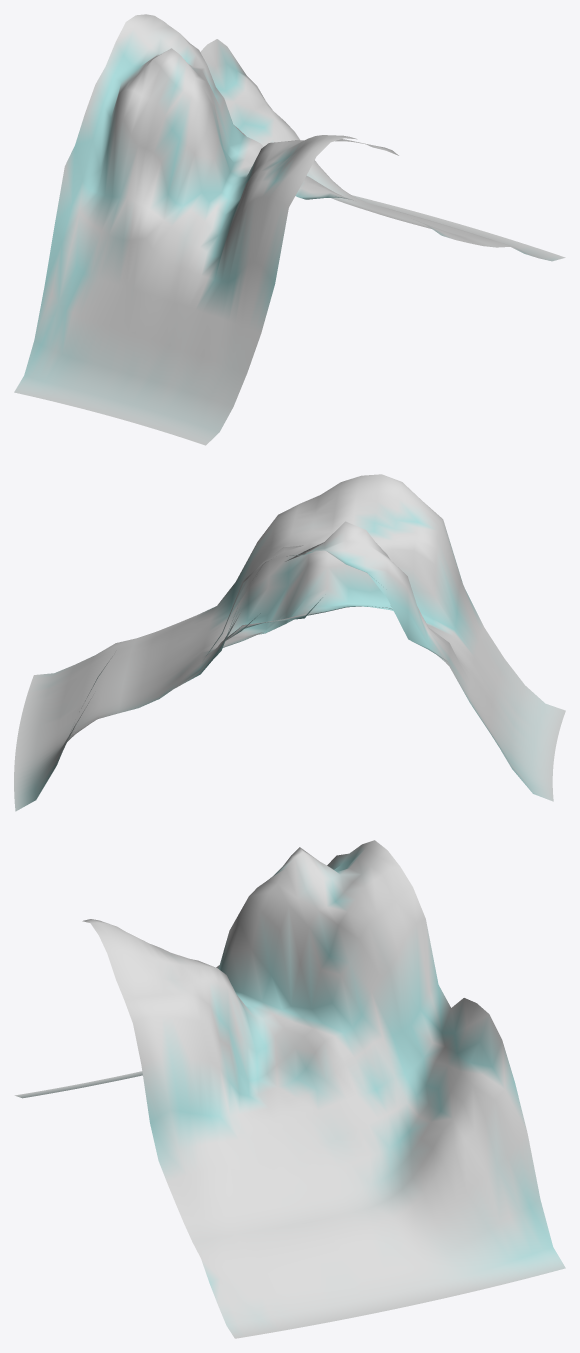
The model's file is near_15.glb.
3 views of the same model, one above another, from view 1: azimuth 30°, elevation 25°; view 2: azimuth 150°, elevation 25°; view 3: azimuth 270°, elevation 25° (orthographic). The views are drawn at different scales.
Visible parts, largest first — view 1: Mountain; view 2: Mountain; view 3: Mountain.
Part boxes in pixels (left/top/right/bottom): Mountain: left=14, top=14, right=565, bottom=445; Mountain: left=14, top=474, right=565, bottom=811; Mountain: left=14, top=840, right=565, bottom=1338.
Size of the model in its own units: 390 by 189 by 313.
